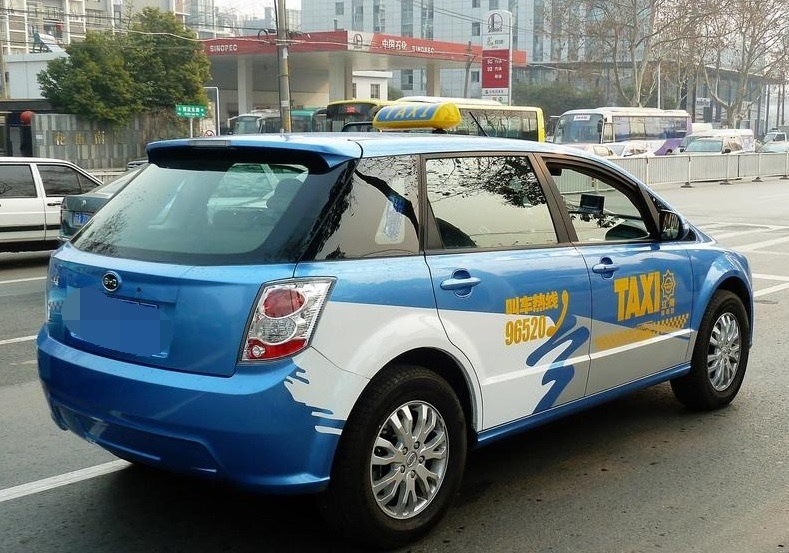taxi: (38, 100, 762, 528)
